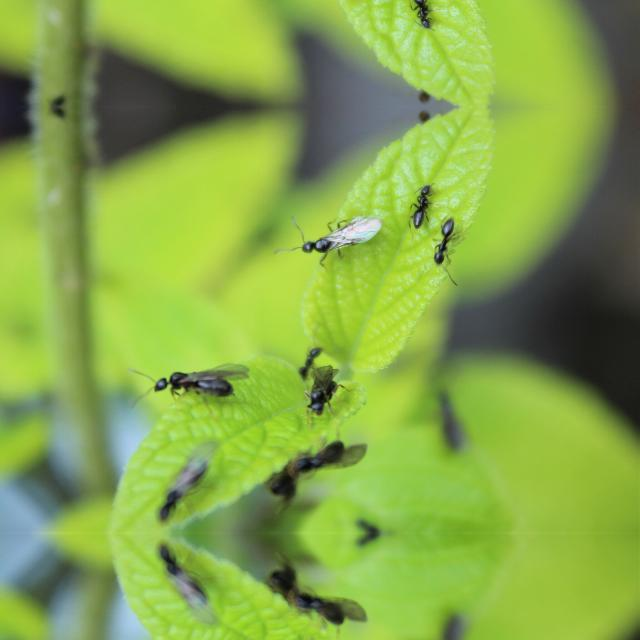Tapinoma: (249, 434, 361, 508), (249, 557, 361, 631), (139, 538, 221, 616), (139, 449, 221, 526), (134, 358, 252, 408), (282, 212, 386, 264), (294, 357, 358, 421), (418, 214, 469, 274), (401, 180, 444, 228), (282, 338, 330, 379), (400, 0, 442, 32)
